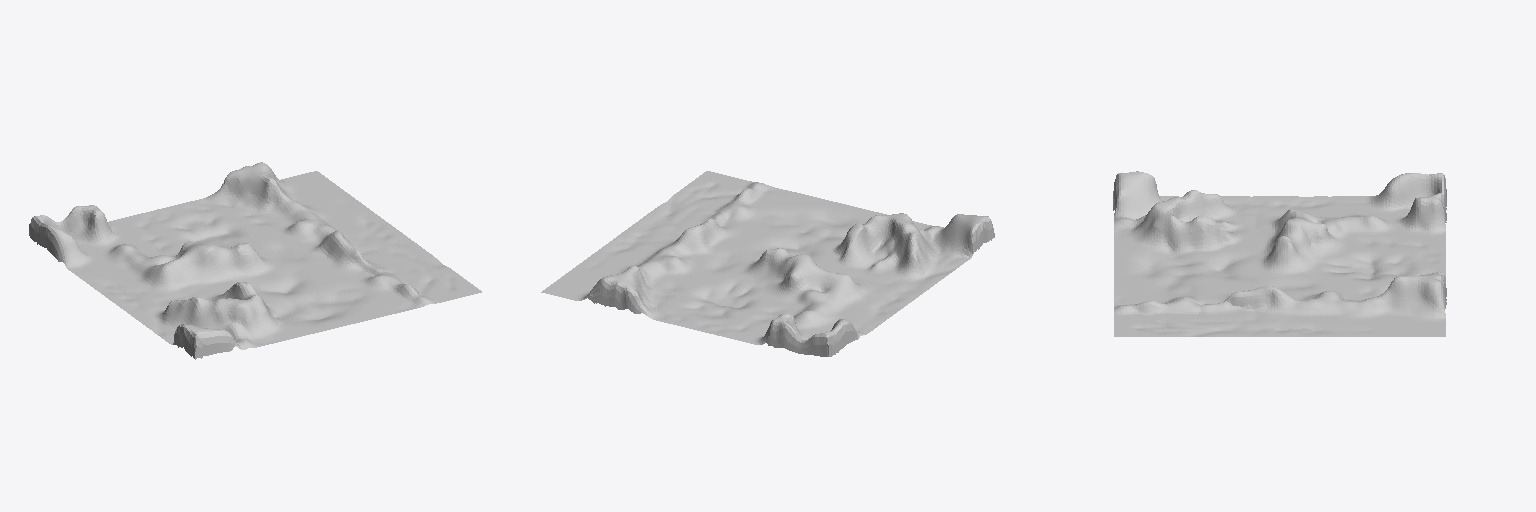
File: mapadm.obj
The picture shows the model from 3 angles: view 1: azimuth 30°, elevation 25°; view 2: azimuth 150°, elevation 25°; view 3: azimuth 270°, elevation 25°; orthographic projection.
Visible parts, largest first — view 1: Plano; view 2: Plano; view 3: Plano.
Part boxes in pixels (x1,y1,x2,y2): Plano: (29,162,481,359); Plano: (541,171,994,356); Plano: (1113,171,1446,336).
Bounding box in the file's own units: 332 × 34.38 × 332.